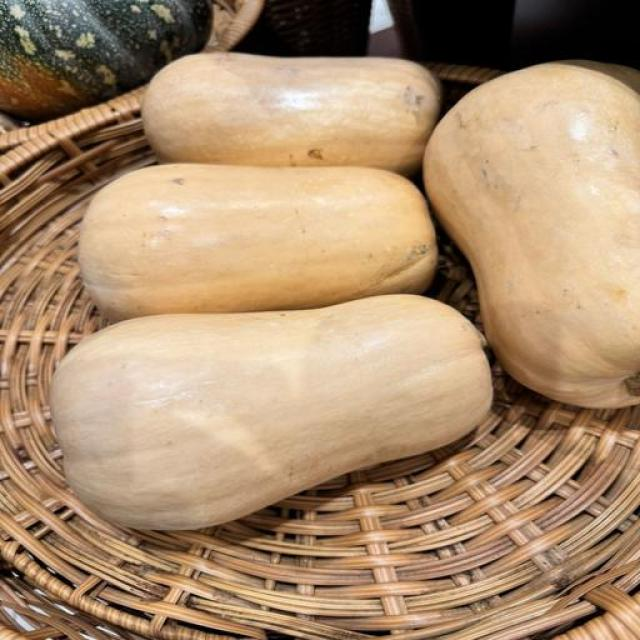organic: (0, 1, 640, 640), (0, 0, 212, 119)
